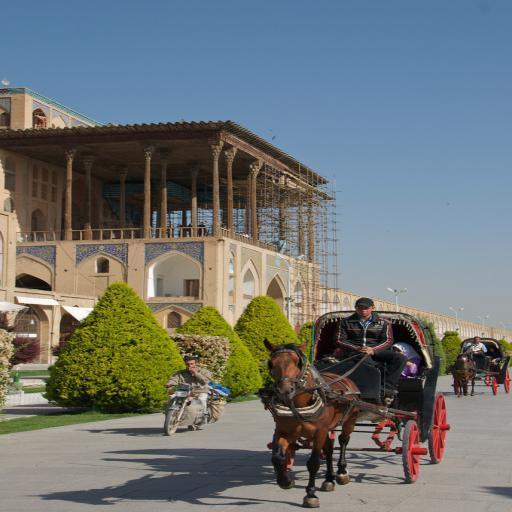horse: (266, 338, 362, 510), (450, 354, 478, 398)
